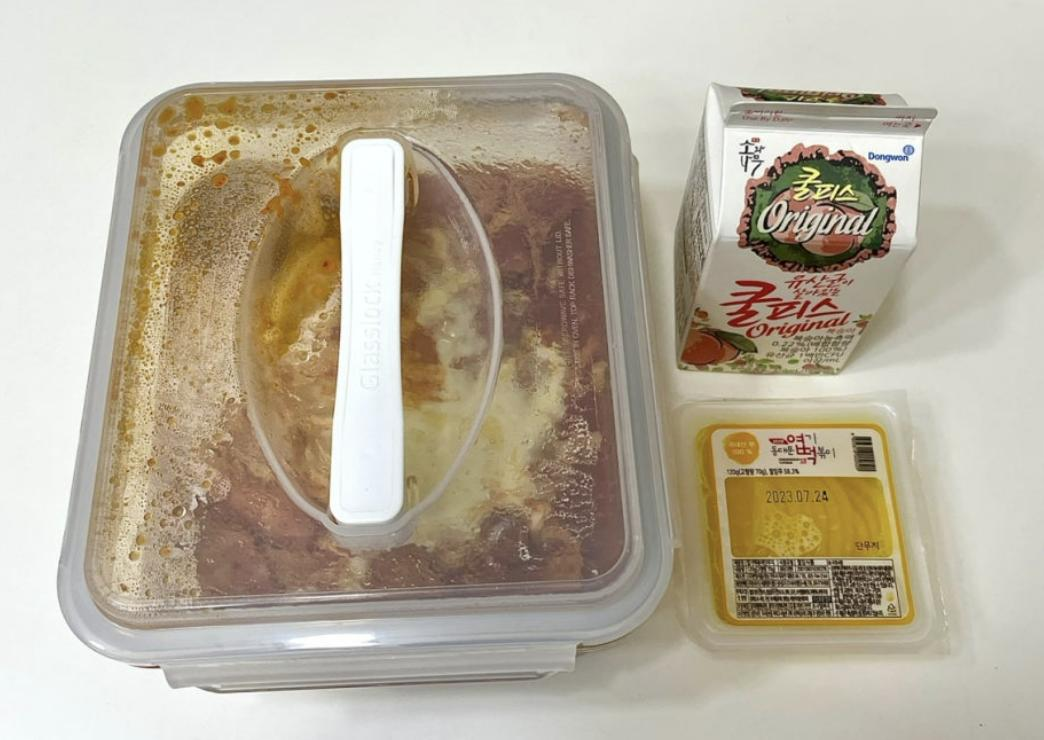Lunch Box: (58, 74, 676, 691), (667, 392, 946, 654)
